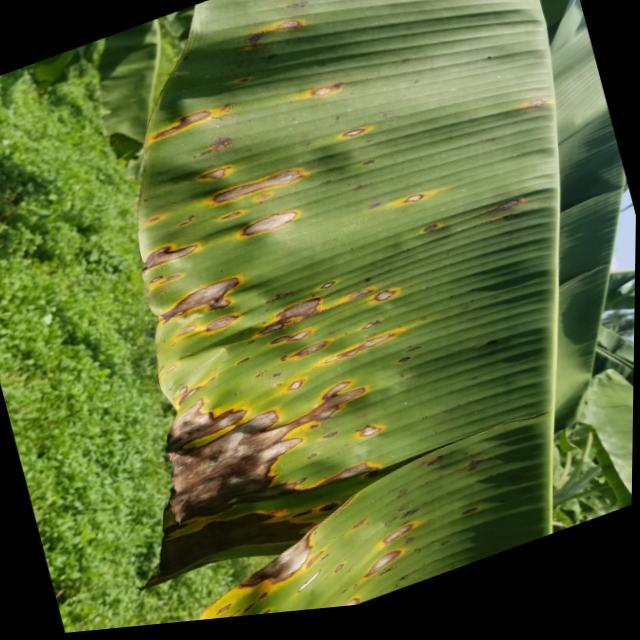Early_rust: (109, 0, 527, 585)
